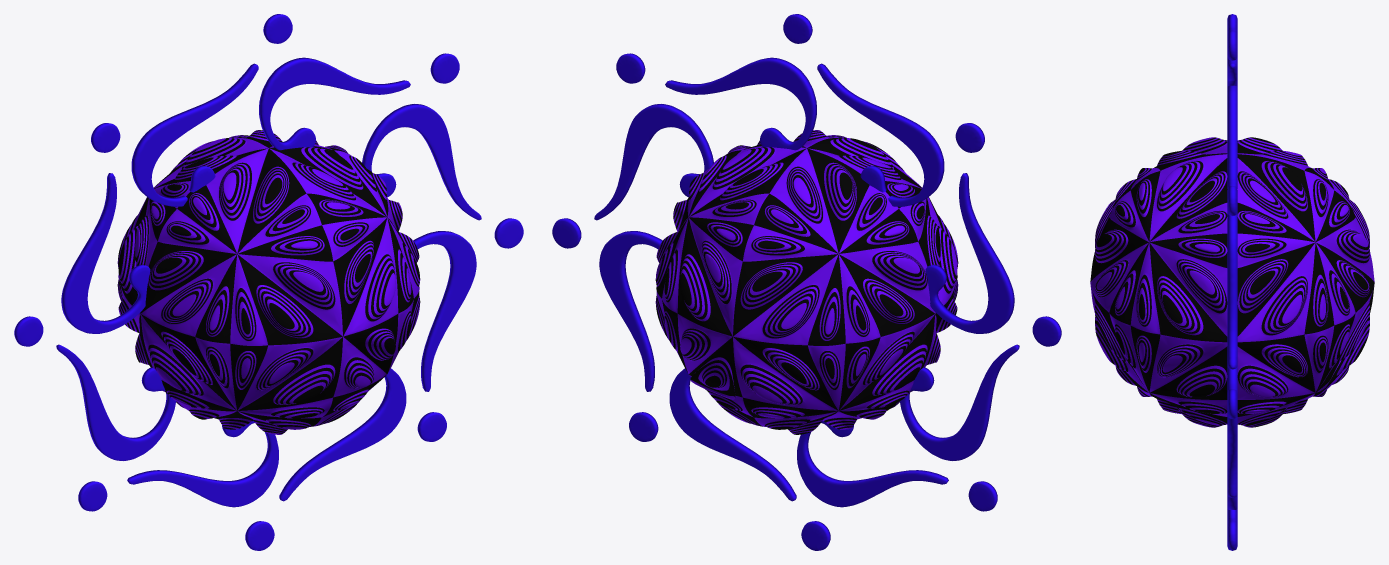
File: testo2.fbx
The picture shows the model from 3 angles, left to right: view 1: azimuth 30°, elevation 25°; view 2: azimuth 150°, elevation 25°; view 3: azimuth 270°, elevation 25°; orthographic projection. The views are drawn at different scales.
Visible parts, largest first — view 1: Box24152; view 2: Box24152; view 3: Box24152.
Boxes of the visible parts, left/top/right/bottom form: Box24152: left=14, top=14, right=523, bottom=550; Box24152: left=552, top=14, right=1061, bottom=550; Box24152: left=1090, top=14, right=1374, bottom=550.
Bounding box in the file's own units: 124263 × 124263 × 62862.
